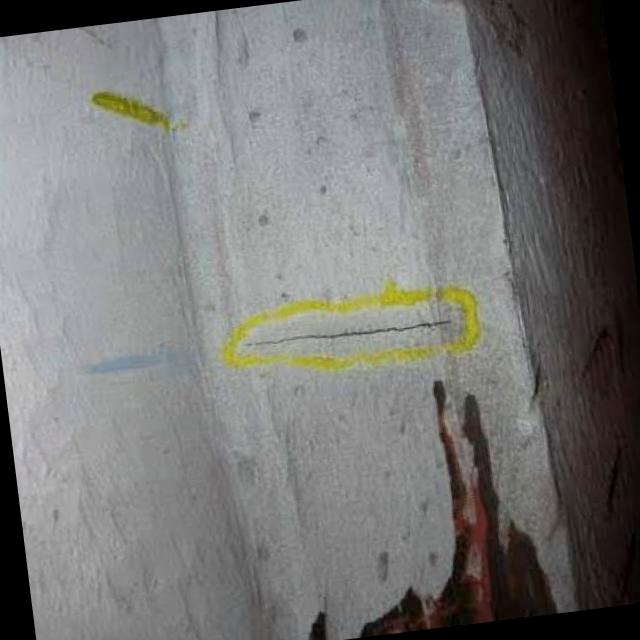defect: (240, 314, 458, 348)
